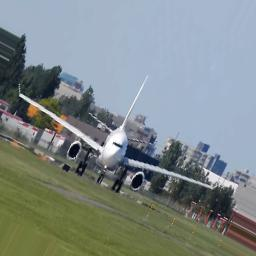Airplane: (16, 82, 217, 195)
